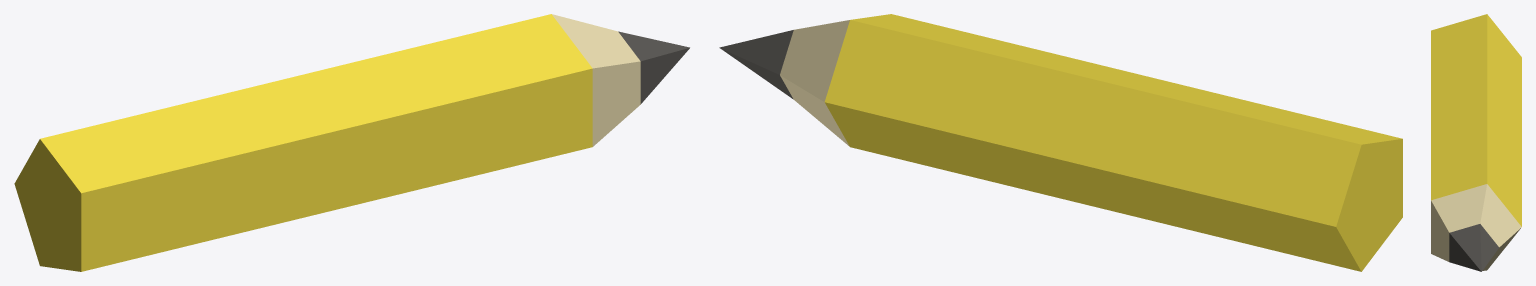
Rendered from pen-front.fbx.
The picture shows the model from 3 angles, left to right: view 1: azimuth 30°, elevation 25°; view 2: azimuth 150°, elevation 25°; view 3: azimuth 270°, elevation 25°; orthographic projection. The views are drawn at different scales.
Visible parts, largest first — view 1: Cylinder; view 2: Cylinder; view 3: Cylinder.
Boxes of the visible parts, x1=… form: Cylinder: x1=14, y1=14, x2=689, y2=271; Cylinder: x1=719, y1=14, x2=1402, y2=271; Cylinder: x1=1431, y1=14, x2=1521, y2=271.
Bounding box in the file's own units: 146 × 27.39 × 26.05.
